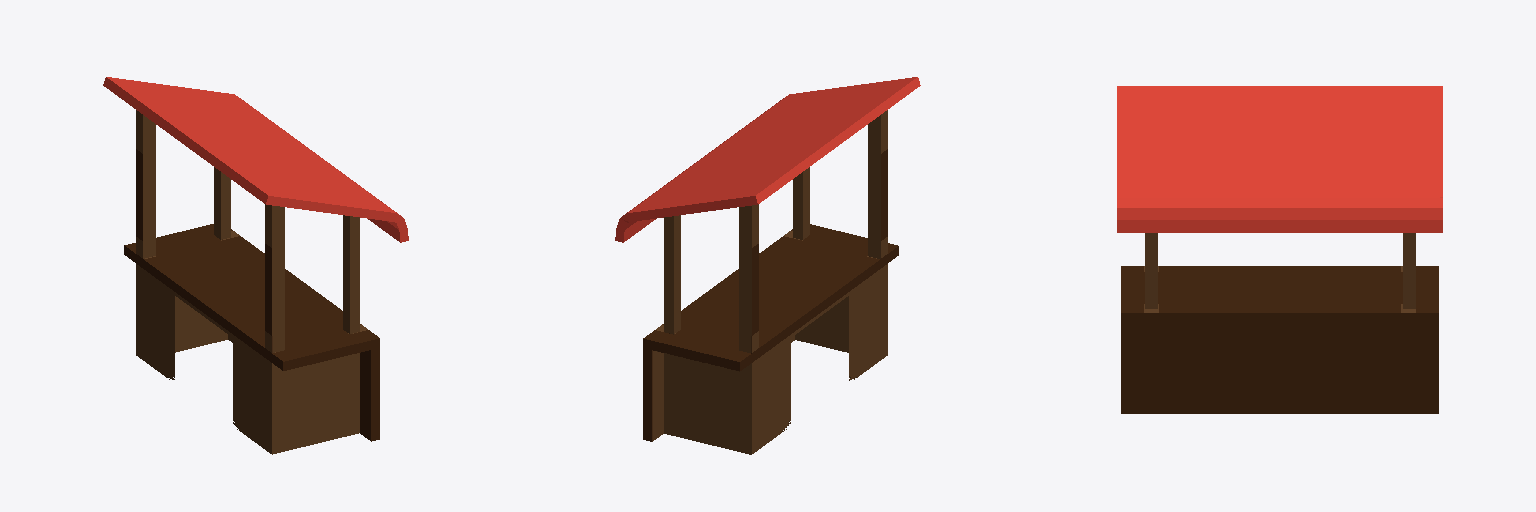
The picture shows the model from 3 angles: view 1: azimuth 30°, elevation 25°; view 2: azimuth 150°, elevation 25°; view 3: azimuth 270°, elevation 25°; orthographic projection.
Parts seen in each view (by area): view 1: Cube.002; view 2: Cube.002; view 3: Cube.002.
Boxes of the visible parts, x1,y1,x2,y2 form: Cube.002: [103, 77, 408, 454]; Cube.002: [615, 77, 920, 454]; Cube.002: [1117, 86, 1442, 413].
Size of the model in its own units: 2.95 by 5.39 by 5.82.
Materials: 1 (1 with a texture image).